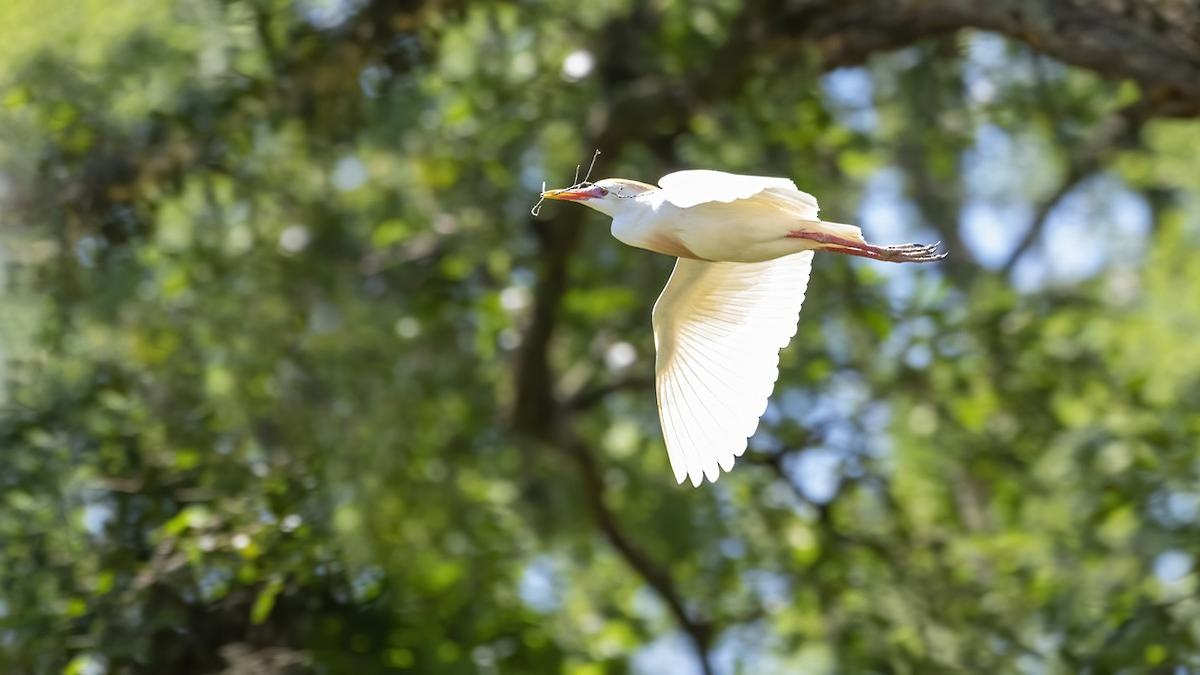egret: (534, 148, 925, 457)
